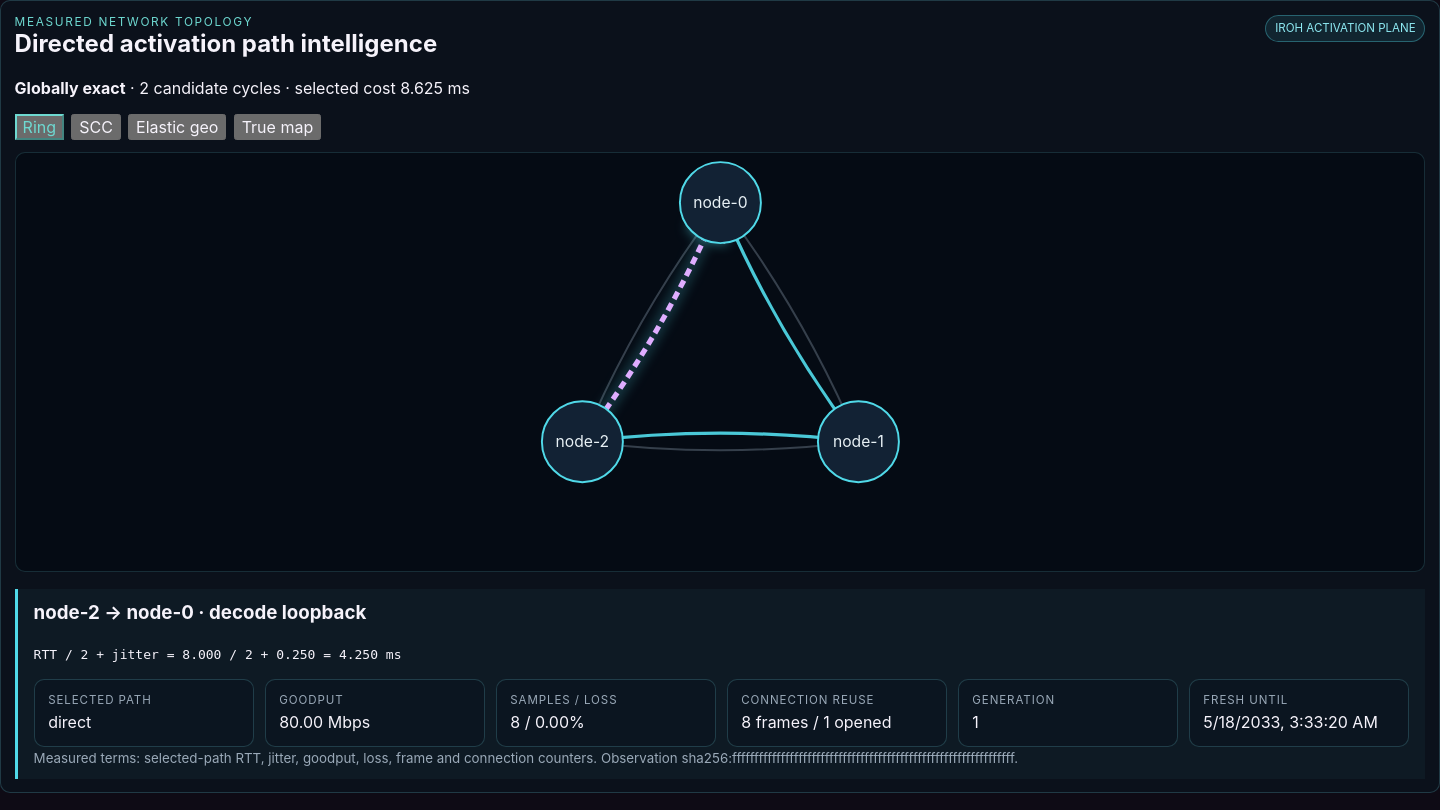
Test: M14TopologyPanel › switches to honest unknown-location map geometry and inspects a measured edge
The width and height of the screenshot is (1440, 810).
Click the button "True map".
click(277, 126)  # box left=234, top=114, right=321, bottom=140
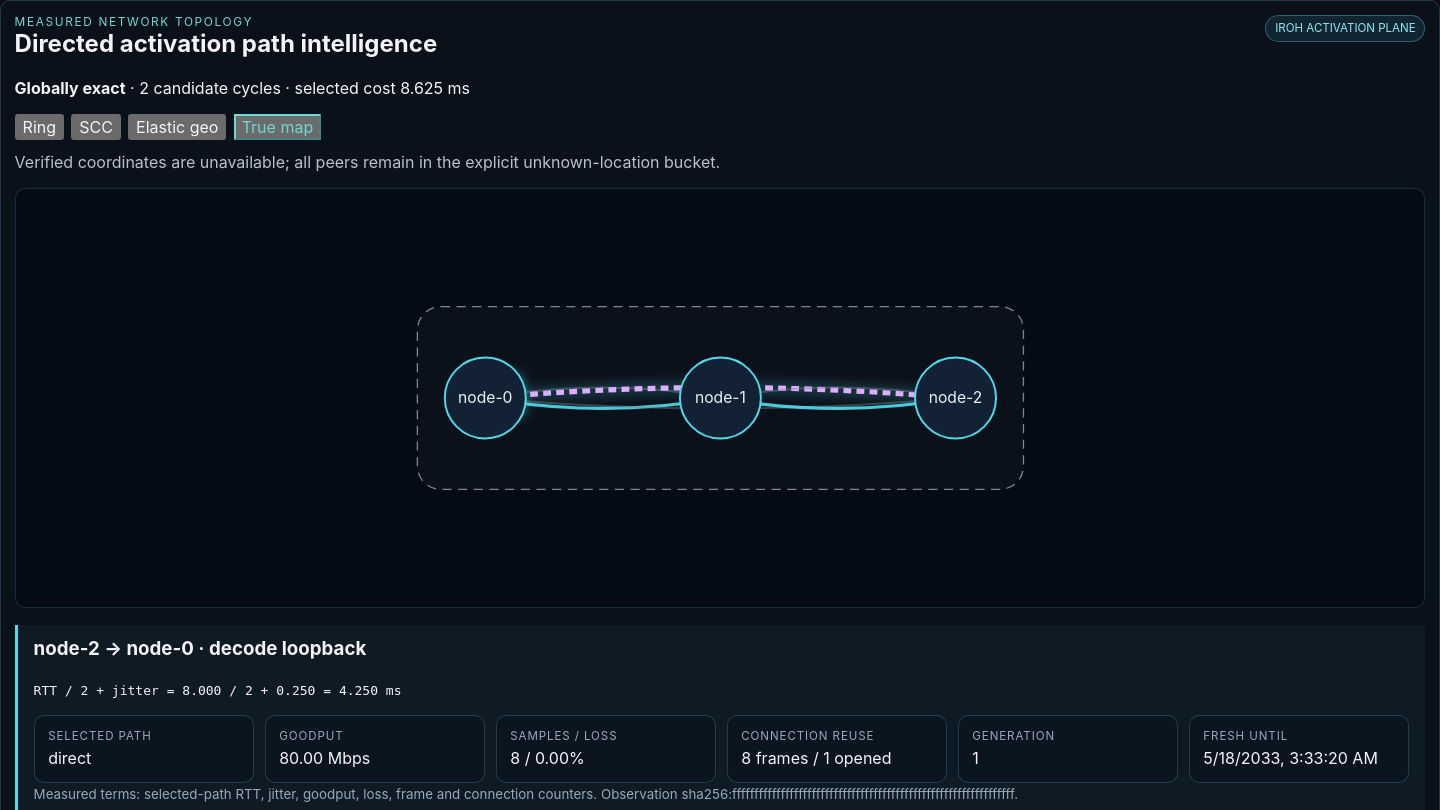
Check: the text "RTT / 2 + jitter = 8.000 / 2 + 0.250 = 4.250 ms" is shown, box left=34, top=683, right=402, bottom=698
Check: the text "explicit unknown-location bucket" is shown, box left=15, top=152, right=720, bottom=172
